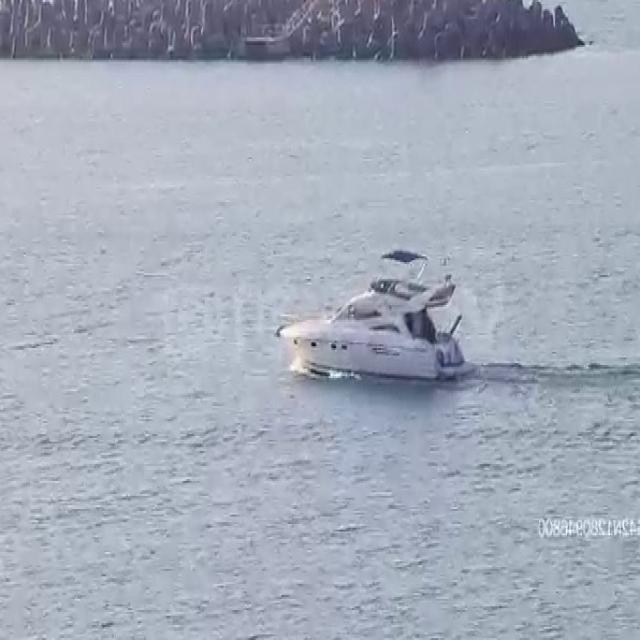houseboat: (277, 240, 477, 386)
